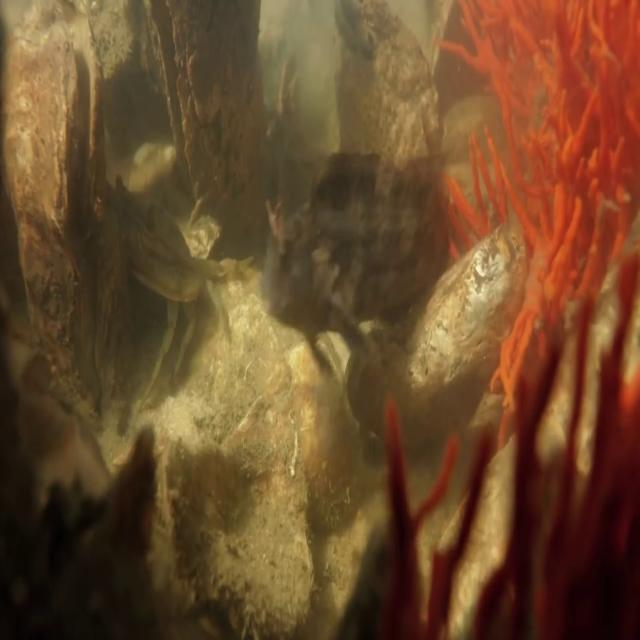Oyster-Closed: (104, 170, 205, 306)
Oyster-Open: (0, 2, 131, 424), (143, 4, 267, 249)
